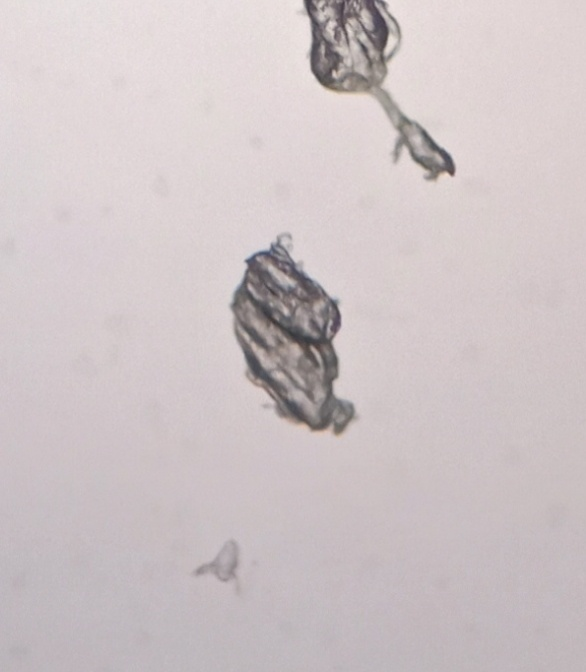microplastic: (226, 231, 369, 440), (299, 1, 460, 184), (188, 534, 248, 597)
